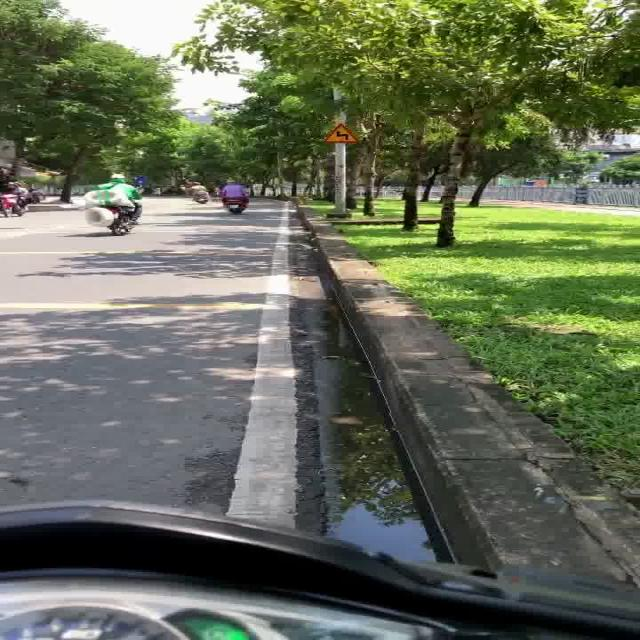Bien bao nhieu cho ngoat nguy hiem lien tiep: (316, 119, 370, 146)
